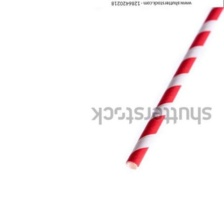drinking_straw: (121, 3, 224, 175)
